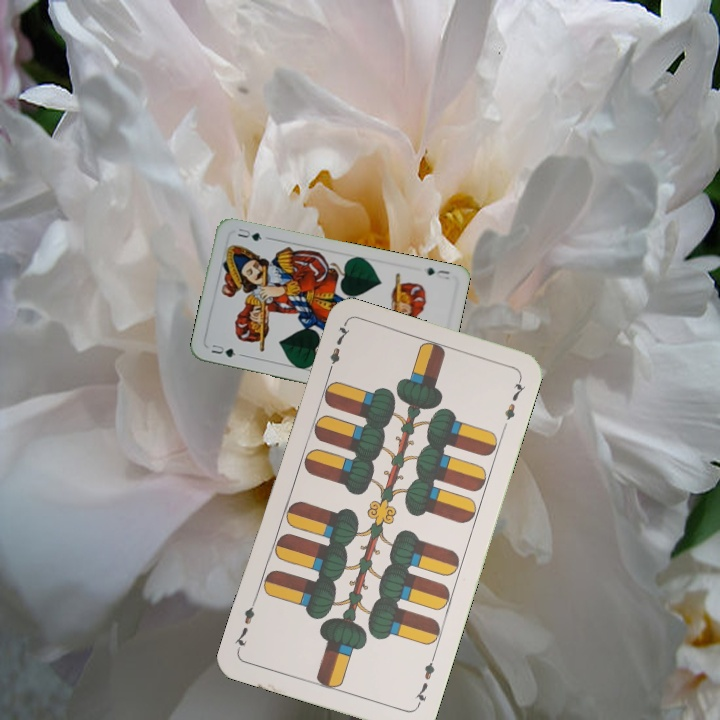E7: (323, 321, 353, 378), (411, 652, 438, 710)
GU: (207, 340, 245, 360), (422, 263, 452, 282)
